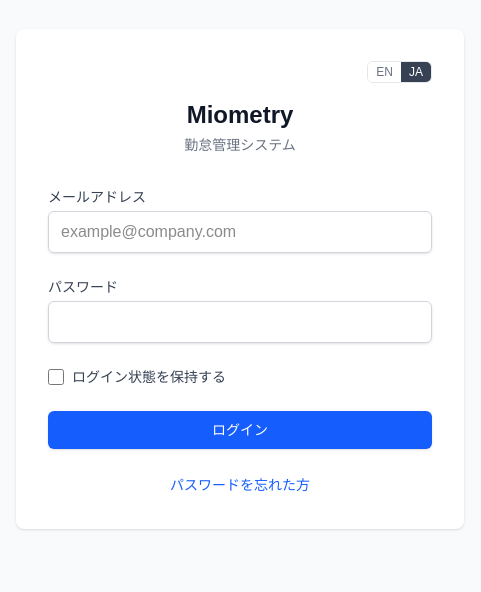
Test: Login page › Login submission › shows network error for non-ApiError failures
The image size is (481, 592).
Step 1. Type "user@example.com" into the field labelled "メールアドレス" → (240, 232), box left=48, top=211, right=432, bottom=253
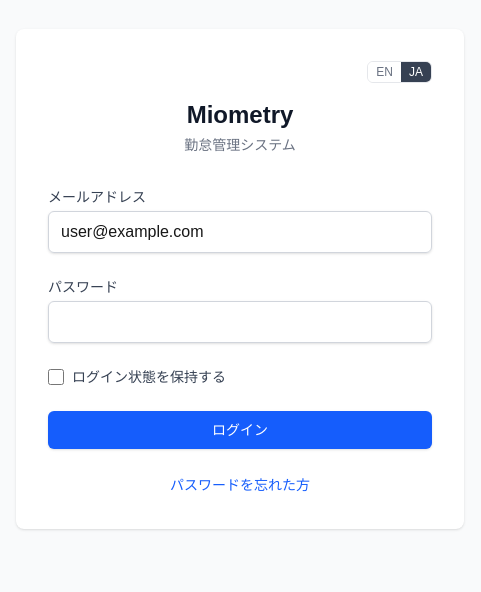
Step 2. Type "password123" into the password field labelled "パスワード" → (240, 322), box left=48, top=301, right=432, bottom=343
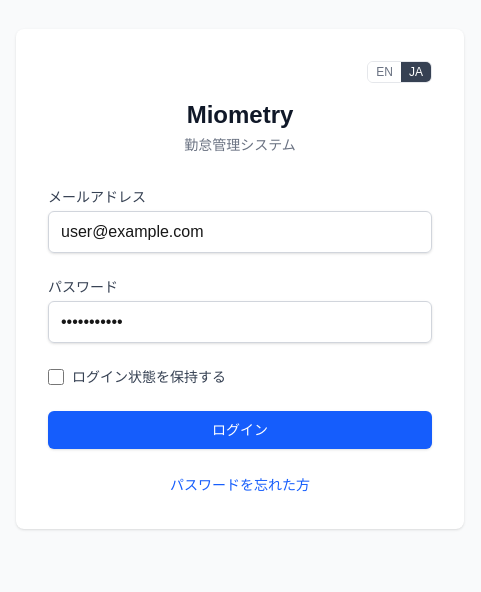
Step 3. Click the button "ログイン" → (240, 430), box left=48, top=411, right=432, bottom=449
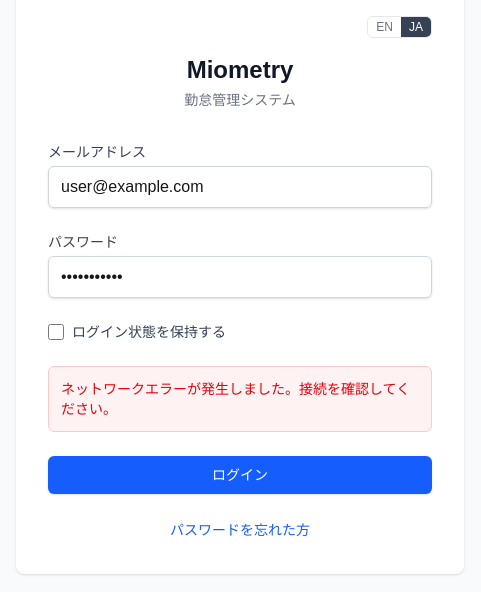
Now the message shows "ネットワークエラーが発生しました", box left=61, top=381, right=410, bottom=417
